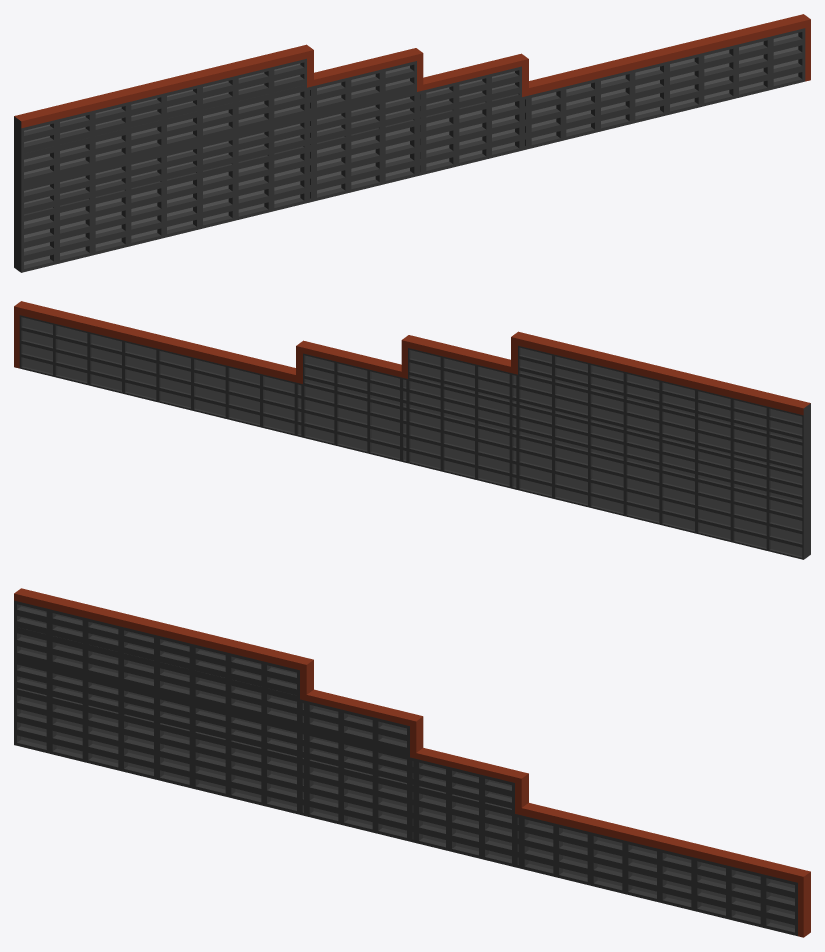
Rendered from muroPiedra.fbx.
3 renders of one model, top to bottom at view 1: azimuth 30°, elevation 25°; view 2: azimuth 150°, elevation 25°; view 3: azimuth 330°, elevation 25°, orthographic.
Parts seen in each view (by area): view 1: Cube; view 2: Cube; view 3: Cube.
Boxes of the visible parts, left/top/right/bottom form: Cube: left=14, top=14, right=810, bottom=272; Cube: left=14, top=301, right=810, bottom=559; Cube: left=14, top=588, right=810, bottom=937.
Size of the model in its own units: 2716 by 498 by 43.11.
